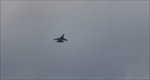maybay_muctieu: (54, 32, 68, 45)
